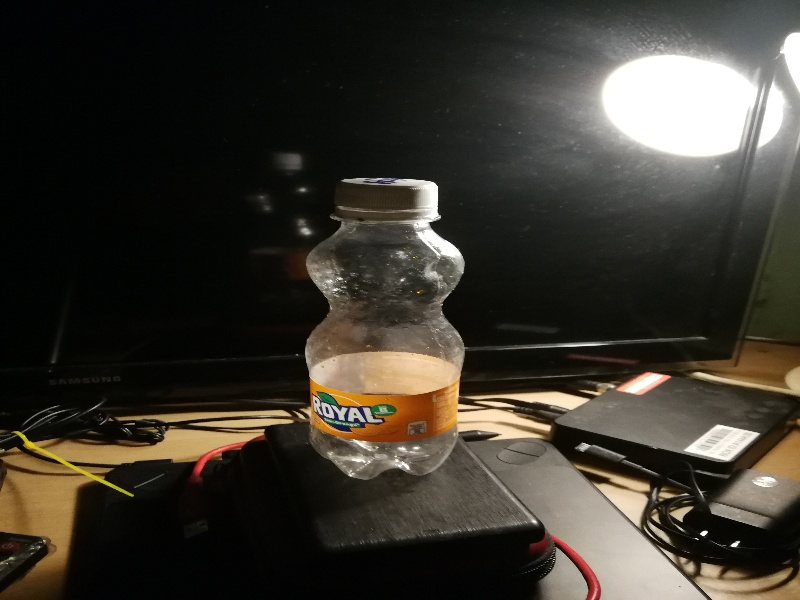PET #1: (291, 168, 474, 479)
